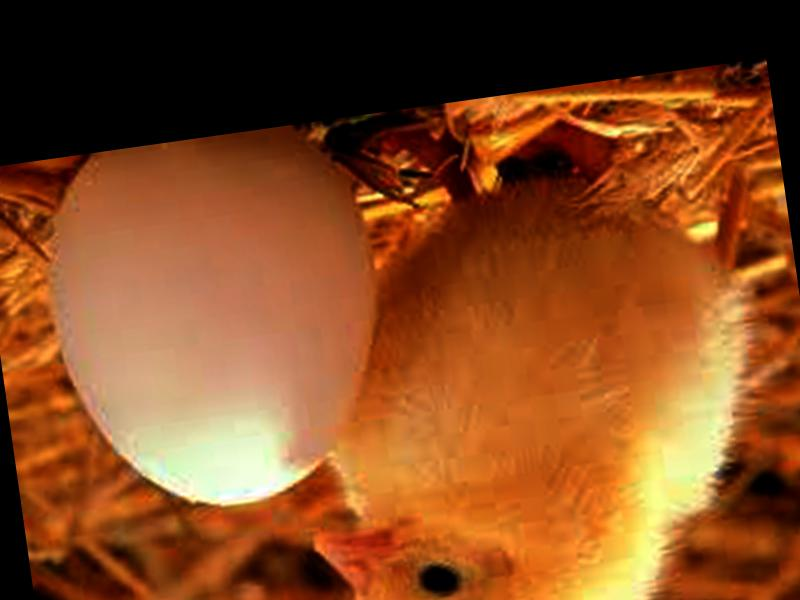Eggs: (32, 115, 405, 528)
